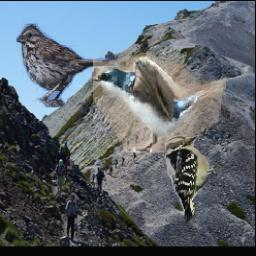Sparrow: (15, 21, 120, 107)
Swallow: (92, 53, 225, 152)
Woodpecker: (164, 133, 224, 225)
